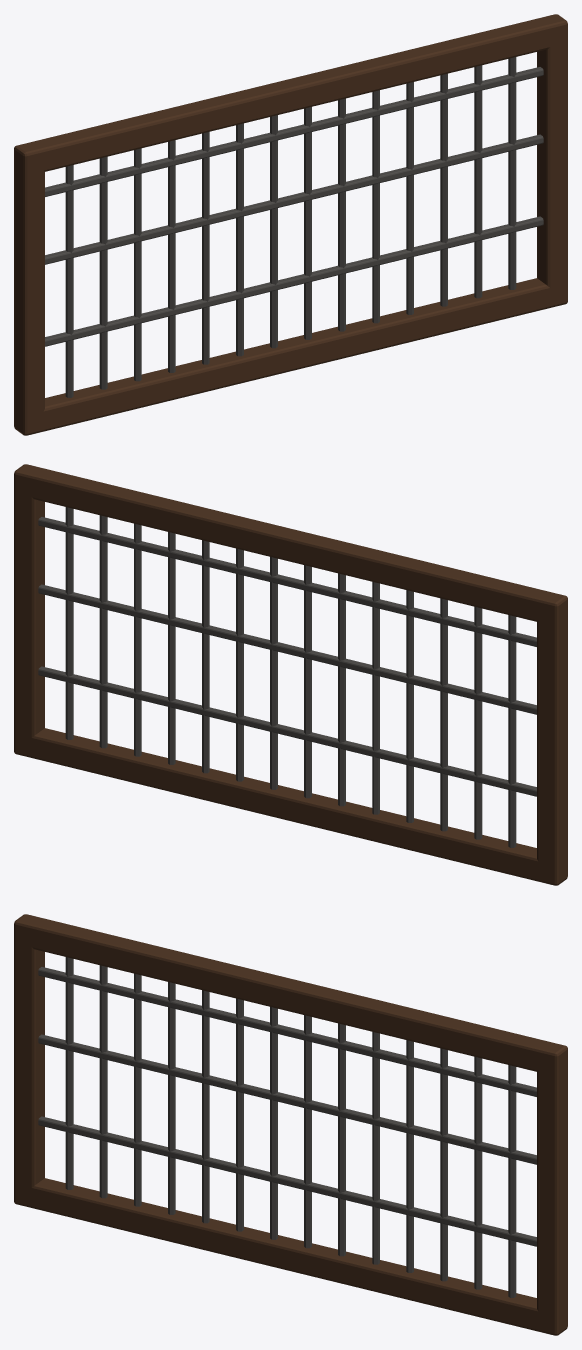
Rendered from grille.glb.
3 renders of one model, top to bottom at view 1: azimuth 30°, elevation 25°; view 2: azimuth 150°, elevation 25°; view 3: azimuth 330°, elevation 25°, orthographic.
Visible parts, largest first — view 1: grille; view 2: grille; view 3: grille.
Boxes of the visible parts, left/top/right/bottom form: grille: left=14, top=14, right=567, bottom=435; grille: left=14, top=464, right=567, bottom=885; grille: left=14, top=914, right=567, bottom=1335.
Size of the model in its own units: 8 by 3.98 by 0.3.
